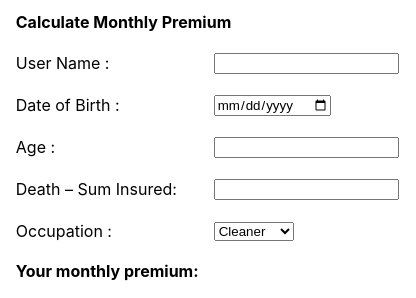
Test: Premium Calc Component testing › rendered User Age population
Type "1981-05-12" into the date field named "userDOB-input". click: x=272, y=105
box: [214, 95, 331, 116]
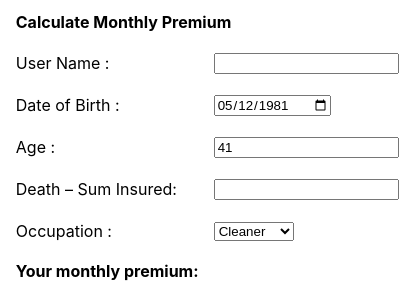
Expected: the field named "userAge-input" holds "41", [214, 137, 399, 158]
